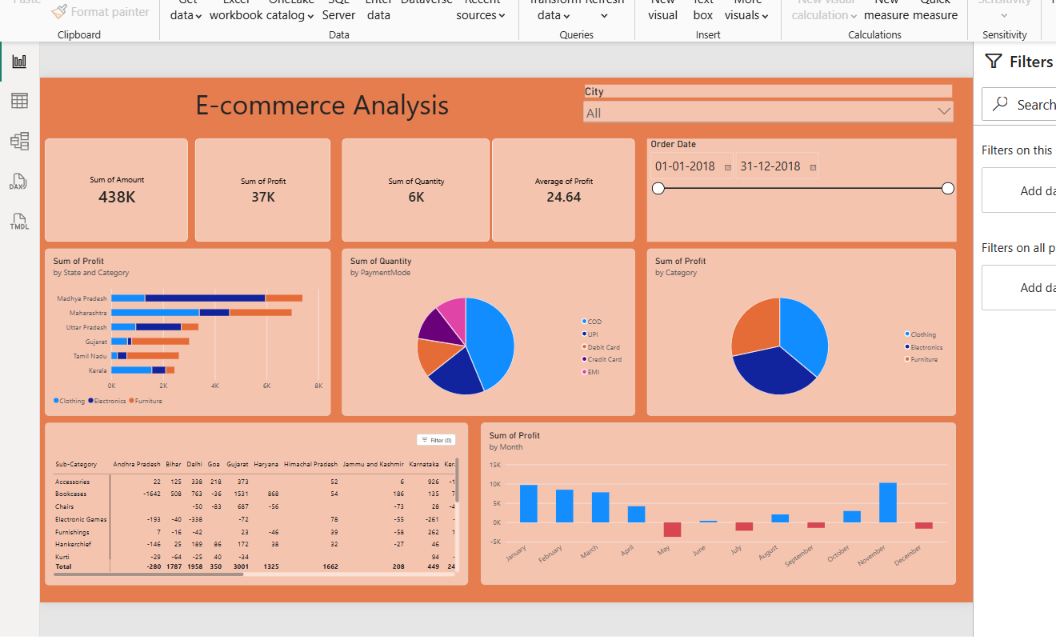

The page's visual inventory and layout, read from the dashboard file:
{"tool":"powerbi","page":{"name":"Page 1","canvas":[1920,1080],"ordinal":0},"visuals":[{"type":"textbox","box":[10.3,0,697.8,279.9],"z":0},{"type":"textbox","box":[319,14.4,759.5,125.6],"z":1000},{"type":"cardVisual","fields":{"Data":["Sum(Details (2).Amount)"]},"box":[10.3,125.6,294.3,212],"z":2000},{"type":"cardVisual","fields":{"Data":["Sum(Details (2).Profit)"]},"box":[319,125.6,279.9,212],"z":3000},{"type":"cardVisual","fields":{"Data":["Sum(Details (2).Quantity)"]},"box":[621.6,125.6,304.6,212],"z":4000},{"type":"cardVisual","fields":{"Data":["Avg(Details (2).Profit)"]},"box":[930.4,125.6,294,212],"z":5000},{"type":"barChart","fields":{"Category":["Orders (2).State"],"Series":["Details (2).Category"],"Y":["Sum(Details (2).Profit)"]},"box":[10,352,588,344],"z":6000},{"type":"pieChart","fields":{"Category":["Details (2).PaymentMode"],"Y":["Sum(Details (2).Quantity)"]},"box":[621.6,352,603.1,343.7],"z":7000},{"type":"pieChart","fields":{"Category":["Details (2).Category"],"Y":["Sum(Details (2).Profit)"]},"box":[1249.4,352,636,343.7],"z":8000},{"type":"pivotTable","fields":{"Columns":["Orders (2).State"],"Rows":["Details (2).Sub-Category"],"Values":["Sum(Details (2).Profit)"]},"box":[10,710,870,334],"z":9000},{"type":"slicer","fields":{"Values":["Orders (2).City"]},"box":[1113.6,14.4,771.9,125.6],"z":10000},{"type":"columnChart","fields":{"Category":["Orders (2).Order Date.Variation.Date Hierarchy.Month"],"Y":["Sum(Details (2).Profit)"]},"box":[907.7,710.1,977.7,333.4],"z":11000},{"type":"slicer","fields":{"Values":["Orders (2).Order Date"]},"box":[1249.4,125.6,636,212],"z":11001}]}

Visuals, with their boxes on the page's 1920x1080 design canvas (x1, y1, x2, y2). These are canvas units, not pixel positions in the 1056x637 screenshot, which may show the page scaled, cropped or inside an application window:
textbox: (left=10, top=0, right=708, bottom=280)
textbox: (left=319, top=14, right=1078, bottom=140)
cardVisual - Sum(Details (2).Amount): (left=10, top=126, right=305, bottom=338)
cardVisual - Sum(Details (2).Profit): (left=319, top=126, right=599, bottom=338)
cardVisual - Sum(Details (2).Quantity): (left=622, top=126, right=926, bottom=338)
cardVisual - Avg(Details (2).Profit): (left=930, top=126, right=1224, bottom=338)
barChart - Orders (2).State x Details (2).Category: (left=10, top=352, right=598, bottom=696)
pieChart - Details (2).PaymentMode x Sum(Details (2).Quantity): (left=622, top=352, right=1225, bottom=696)
pieChart - Details (2).Category x Sum(Details (2).Profit): (left=1249, top=352, right=1885, bottom=696)
pivotTable - Orders (2).State x Details (2).Sub-Category: (left=10, top=710, right=880, bottom=1044)
slicer - Orders (2).City: (left=1114, top=14, right=1886, bottom=140)
columnChart - Orders (2).Order Date.Variation.Date Hierarchy.Month x Sum(Details (2).Profit): (left=908, top=710, right=1885, bottom=1044)
slicer - Orders (2).Order Date: (left=1249, top=126, right=1885, bottom=338)
